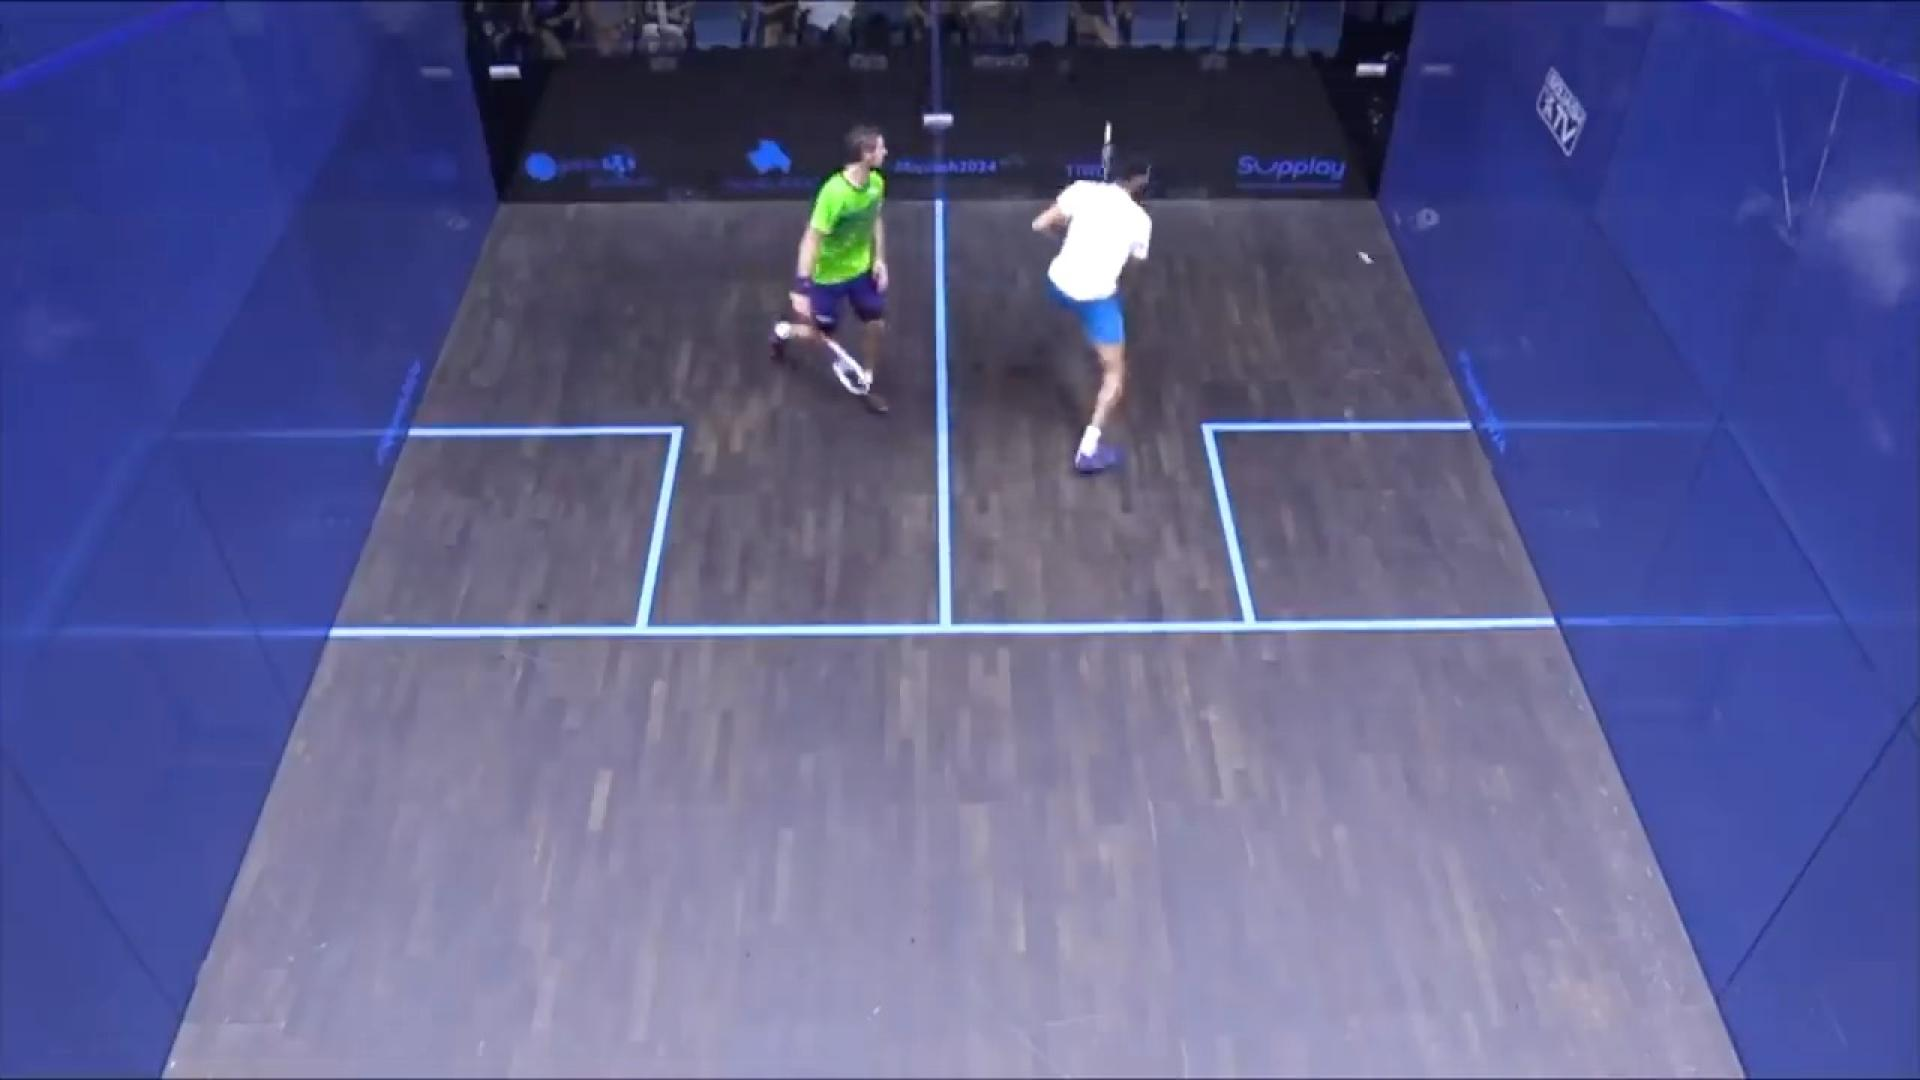Squash-Ball: (1355, 245, 1380, 275)
